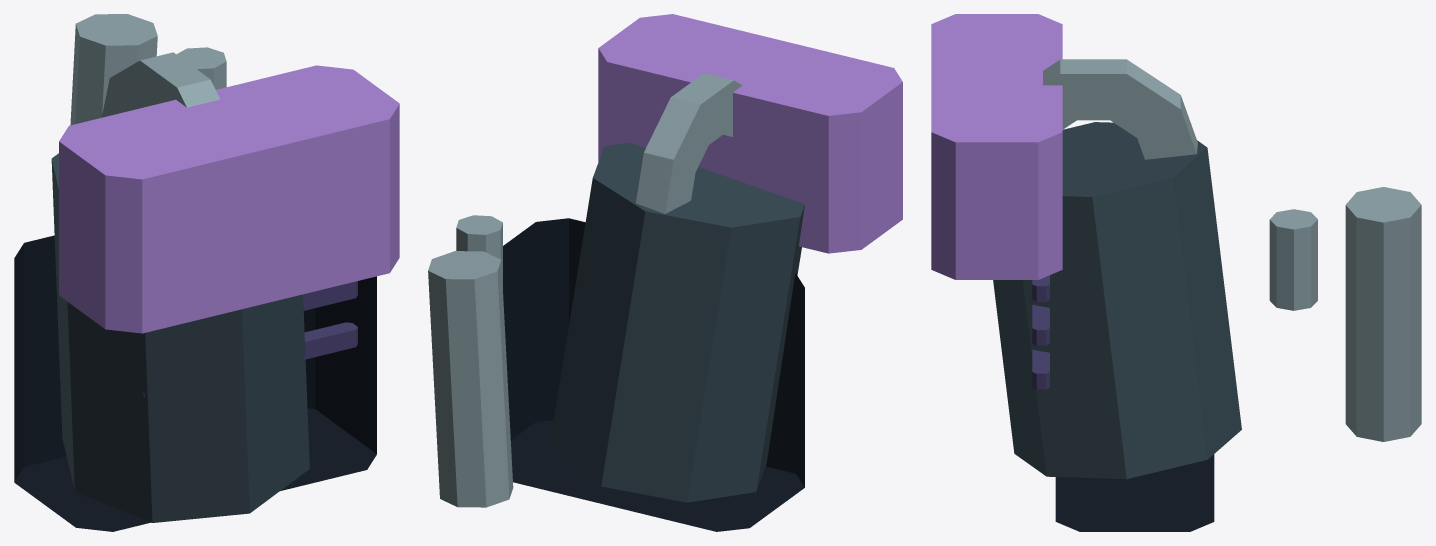
The model's file is enemy_tank_shin_l.obj.
The picture shows the model from 3 angles, left to right: view 1: azimuth 30°, elevation 25°; view 2: azimuth 150°, elevation 25°; view 3: azimuth 270°, elevation 25°; orthographic projection. The views are drawn at different scales.
Bounding box in the file's own units: 0.51 × 0.6084 × 0.71.
